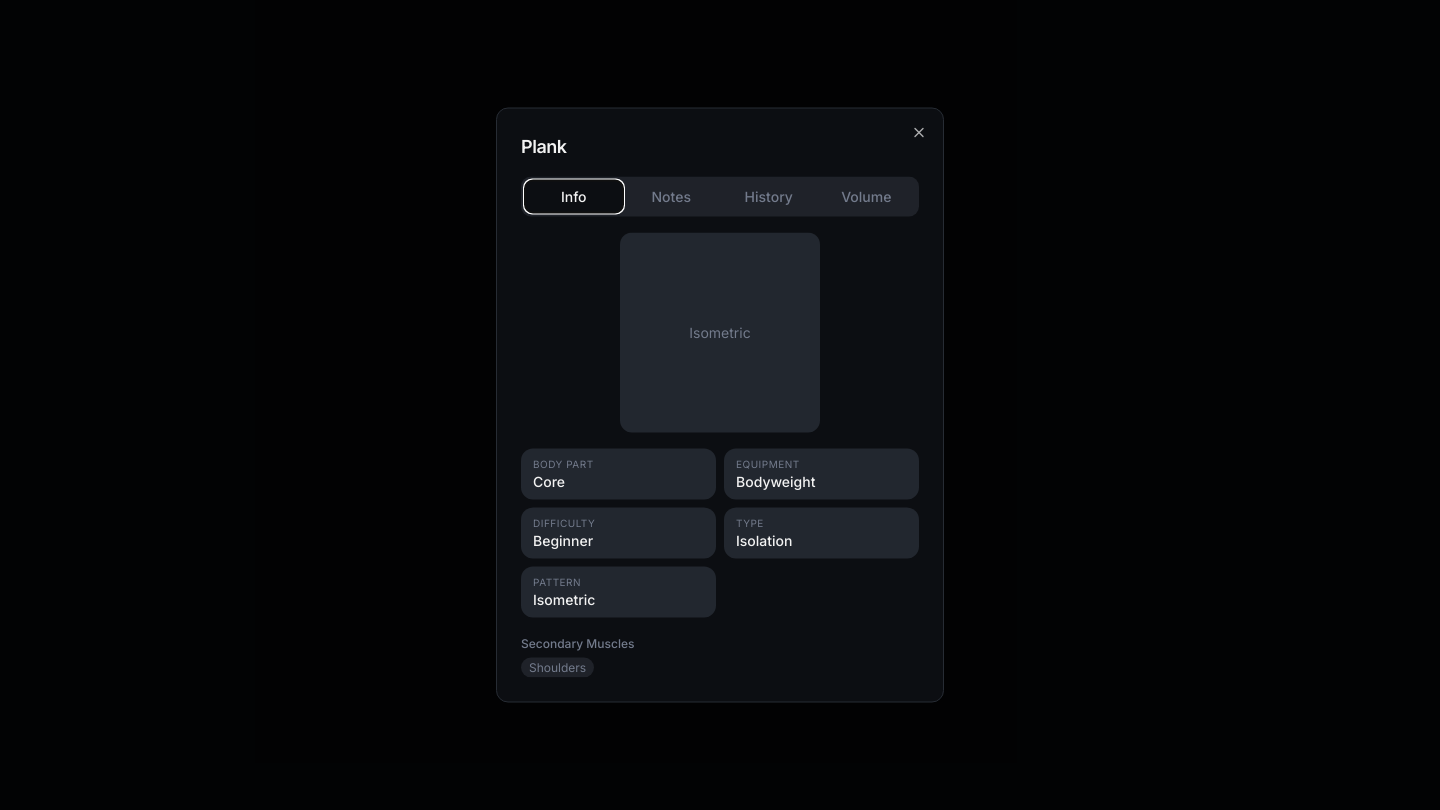
Test case: ExerciseDetailModal — History tab › renders a timed set as a duration, not as reps
Step 1. Press the mouse on the tab "History" → [769, 196], box [720,180,818,212]
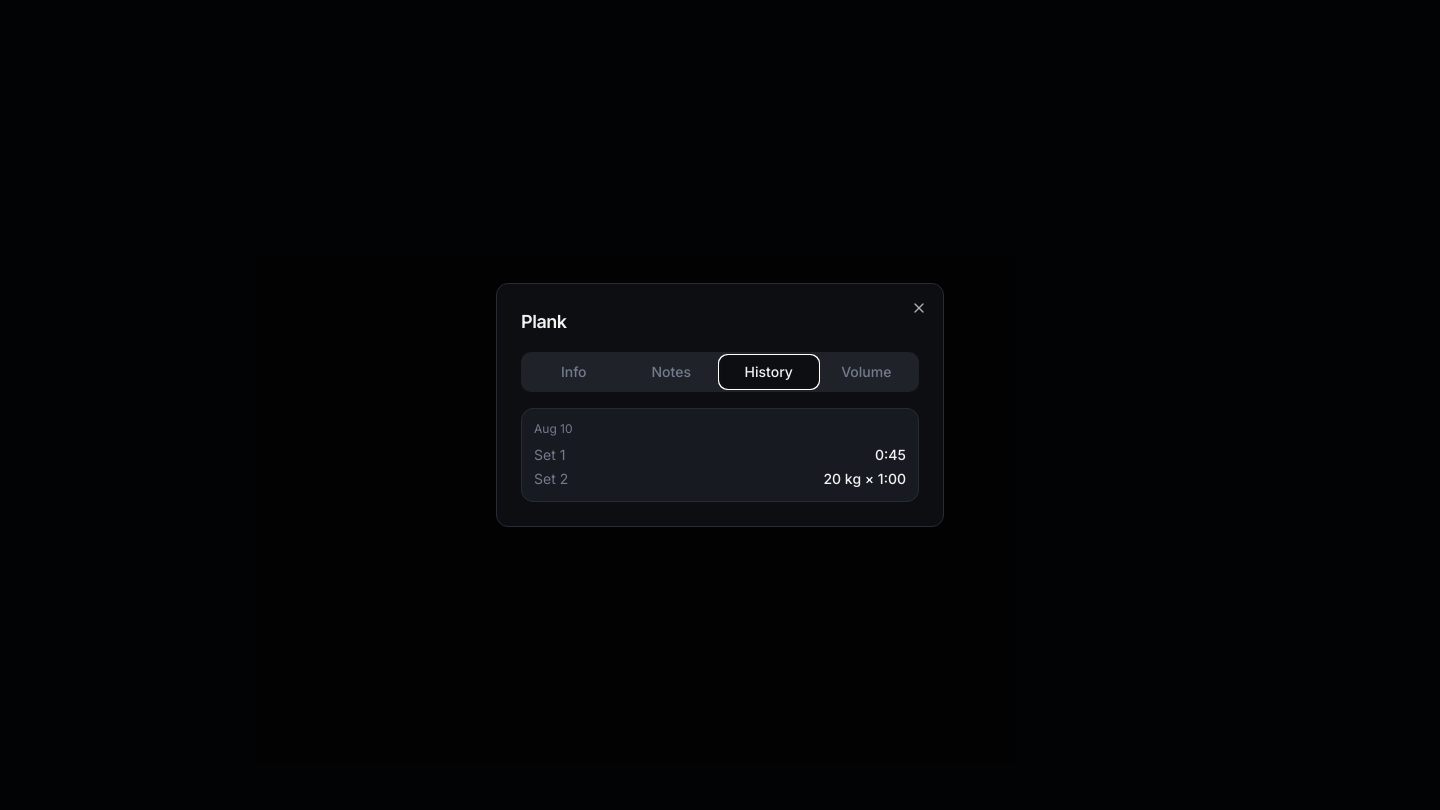
Result: the text "0:45" is shown at [875,445,906,465]
Result: the text "20 kg × 1:00" is shown at [824,469,906,489]
